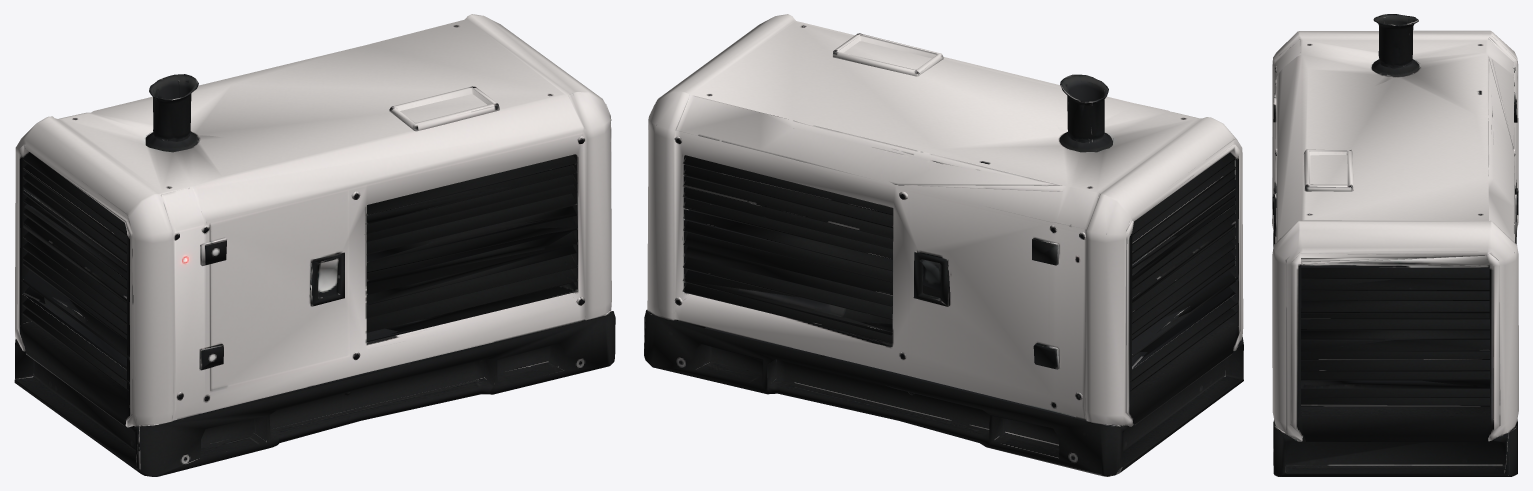
The model's file is machine.glb.
3 views of the same model, side by side, from view 1: azimuth 30°, elevation 25°; view 2: azimuth 150°, elevation 25°; view 3: azimuth 270°, elevation 25° (orthographic). The views are drawn at different scales.
Visible parts, largest first — view 1: Mesh_0; view 2: Mesh_0; view 3: Mesh_0.
Part boxes in pixels (x1=…): Mesh_0: x1=14, y1=14, x2=615, y2=476; Mesh_0: x1=644, y1=14, x2=1243, y2=476; Mesh_0: x1=1272, y1=14, x2=1518, y2=476.
Bounding box in the file's own units: 2.17 × 1.4 × 1.06.
1 material, 1 textured.
